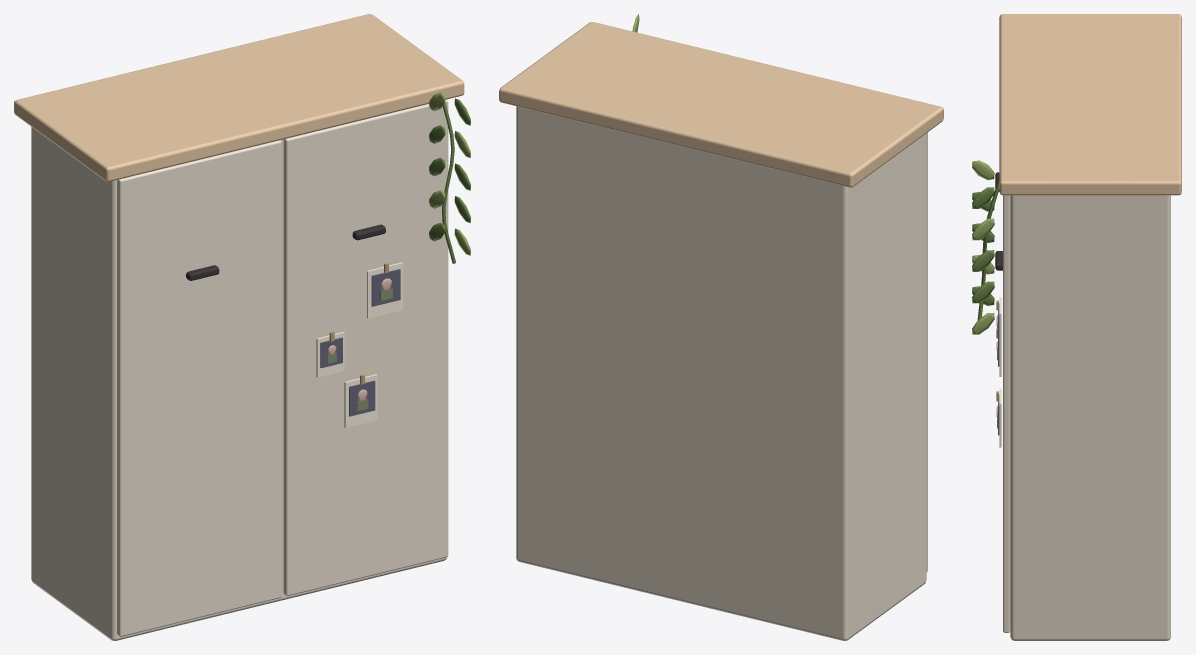
File: bedroom_ref_wardrobe.glb
3 renders of one model, left to right at view 1: azimuth 30°, elevation 25°; view 2: azimuth 150°, elevation 25°; view 3: azimuth 270°, elevation 25°, orthographic. The views are drawn at different scales.
Bounding box in the file's own units: 2.24 × 2.9 × 1.17.
